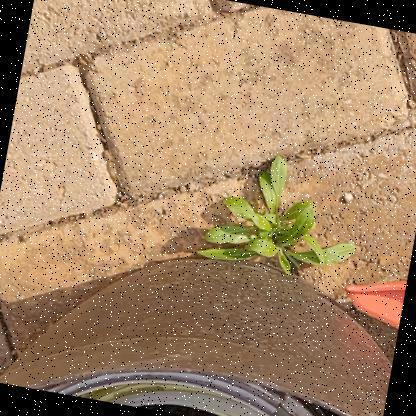Weeds: (196, 144, 370, 282)
